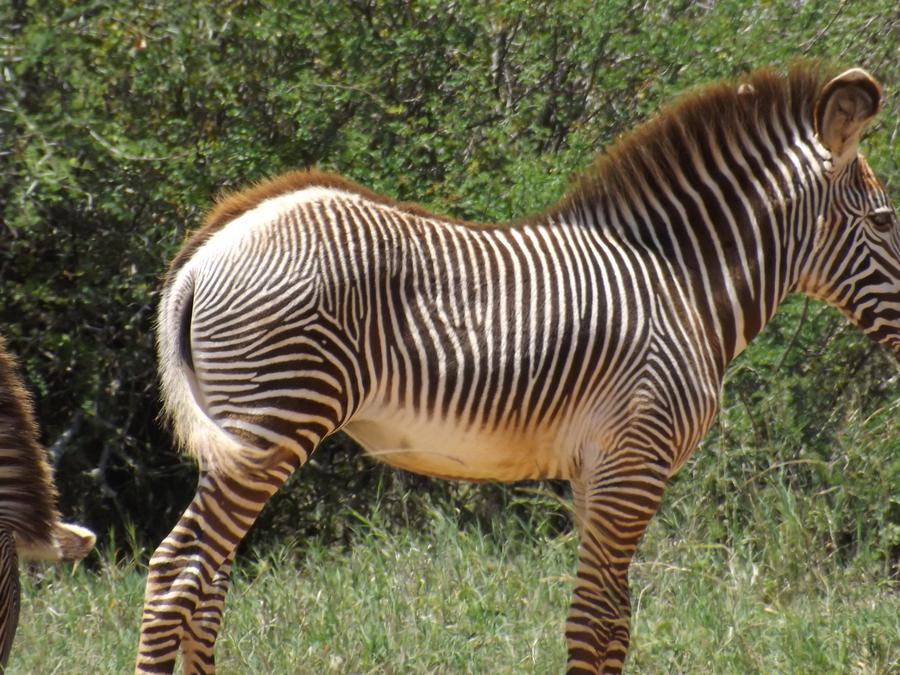zebra_grevys: (161, 154, 675, 497)
